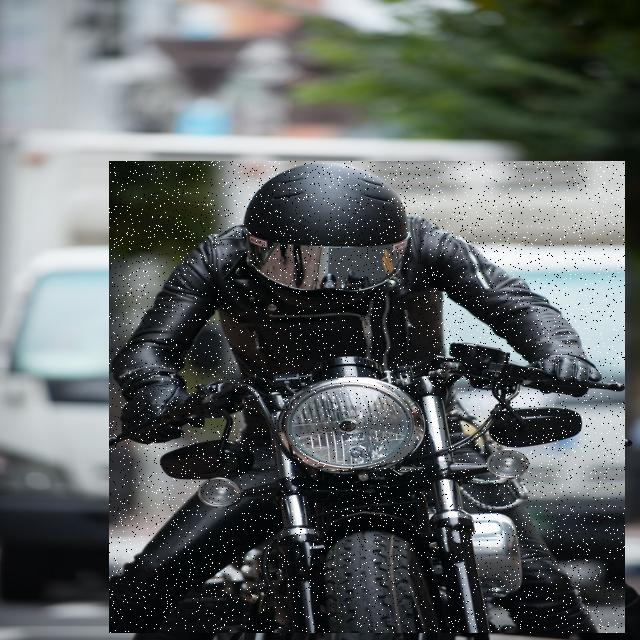With Helmet: (109, 161, 625, 633)
